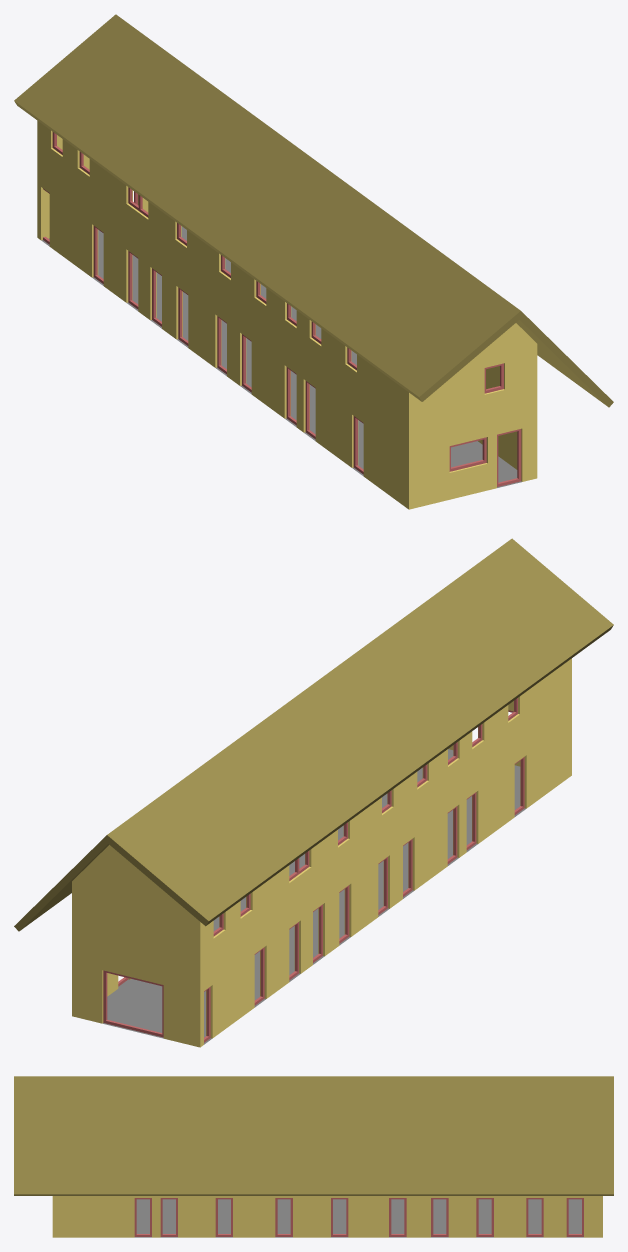
The model's file is result.glb.
3 renders of one model, top to bottom at view 1: azimuth 30°, elevation 25°; view 2: azimuth 150°, elevation 25°; view 3: azimuth 270°, elevation 25°, orthographic. The views are drawn at different scales.
Visible parts, largest first — view 1: a1e843fb-791c-439b-99da-60e392b5cbfb__undefined (×2), f2fc953f-cf53-4741-bf7c-4045809c1e29__undefined, a7d9ab98-89a0-4ff0-9723-0b3b0aada0f7__Plane_44; view 2: a1e843fb-791c-439b-99da-60e392b5cbfb__undefined (×2), f2fc953f-cf53-4741-bf7c-4045809c1e29__undefined, a7d9ab98-89a0-4ff0-9723-0b3b0aada0f7__Plane_44, 311b408a-4b57-4de6-b01f-d5ae9a639e9e__Box_9; view 3: a1e843fb-791c-439b-99da-60e392b5cbfb__undefined, f2fc953f-cf53-4741-bf7c-4045809c1e29__undefined, a7d9ab98-89a0-4ff0-9723-0b3b0aada0f7__Plane_44, 60915a3f-a57a-4b89-a588-38aef1a4265b__Box_81, 0b0fdf15-49e3-450e-86f6-5ce1f2f3f673__Box_87, cca180bf-ba01-498d-a3c9-9f9db1e1a8ca__Box_90, 555b4e4d-921d-48df-bd11-880b303a0836__Box_93, 295ed1f2-84c6-410c-8107-3abea1d36517__Box_96, 3556ae3c-8ad9-4694-a360-8246b6c5787e__Box_72, 2b125306-51e3-4156-bc14-3365c6a6cce6__Box_75, 67fd8440-165a-4d1e-b2f8-825d14cb3bed__Box_78, 37576f77-a612-4583-b5b1-98fd21af7c84__Box_84 (+1 smaller).
Boxes of the visible parts, x1,y1,x2,y2 form: a1e843fb-791c-439b-99da-60e392b5cbfb__undefined (×2): (14,14,613,407); f2fc953f-cf53-4741-bf7c-4045809c1e29__undefined: (37,120,537,509); a7d9ab98-89a0-4ff0-9723-0b3b0aada0f7__Plane_44: (41,226,521,487); a1e843fb-791c-439b-99da-60e392b5cbfb__undefined (×2): (14,538,613,931); f2fc953f-cf53-4741-bf7c-4045809c1e29__undefined: (72,658,571,1047); a7d9ab98-89a0-4ff0-9723-0b3b0aada0f7__Plane_44: (103,749,525,1044); 311b408a-4b57-4de6-b01f-d5ae9a639e9e__Box_9: (103,970,163,1037); a1e843fb-791c-439b-99da-60e392b5cbfb__undefined: (14,1076,613,1195); f2fc953f-cf53-4741-bf7c-4045809c1e29__undefined: (52,1196,602,1237); a7d9ab98-89a0-4ff0-9723-0b3b0aada0f7__Plane_44: (134,1199,583,1237); 60915a3f-a57a-4b89-a588-38aef1a4265b__Box_81: (275,1198,292,1236); 0b0fdf15-49e3-450e-86f6-5ce1f2f3f673__Box_87: (389,1198,406,1236); cca180bf-ba01-498d-a3c9-9f9db1e1a8ca__Box_90: (431,1198,448,1236); 555b4e4d-921d-48df-bd11-880b303a0836__Box_93: (476,1198,493,1236); 295ed1f2-84c6-410c-8107-3abea1d36517__Box_96: (526,1198,543,1236); 3556ae3c-8ad9-4694-a360-8246b6c5787e__Box_72: (134,1198,151,1236); 2b125306-51e3-4156-bc14-3365c6a6cce6__Box_75: (160,1198,177,1236); 67fd8440-165a-4d1e-b2f8-825d14cb3bed__Box_78: (215,1198,232,1236); 37576f77-a612-4583-b5b1-98fd21af7c84__Box_84: (331,1198,348,1236).
Size of the model in its own units: 762 by 736 by 2742.
